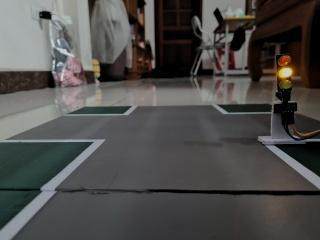yellow: (266, 46, 301, 101)
